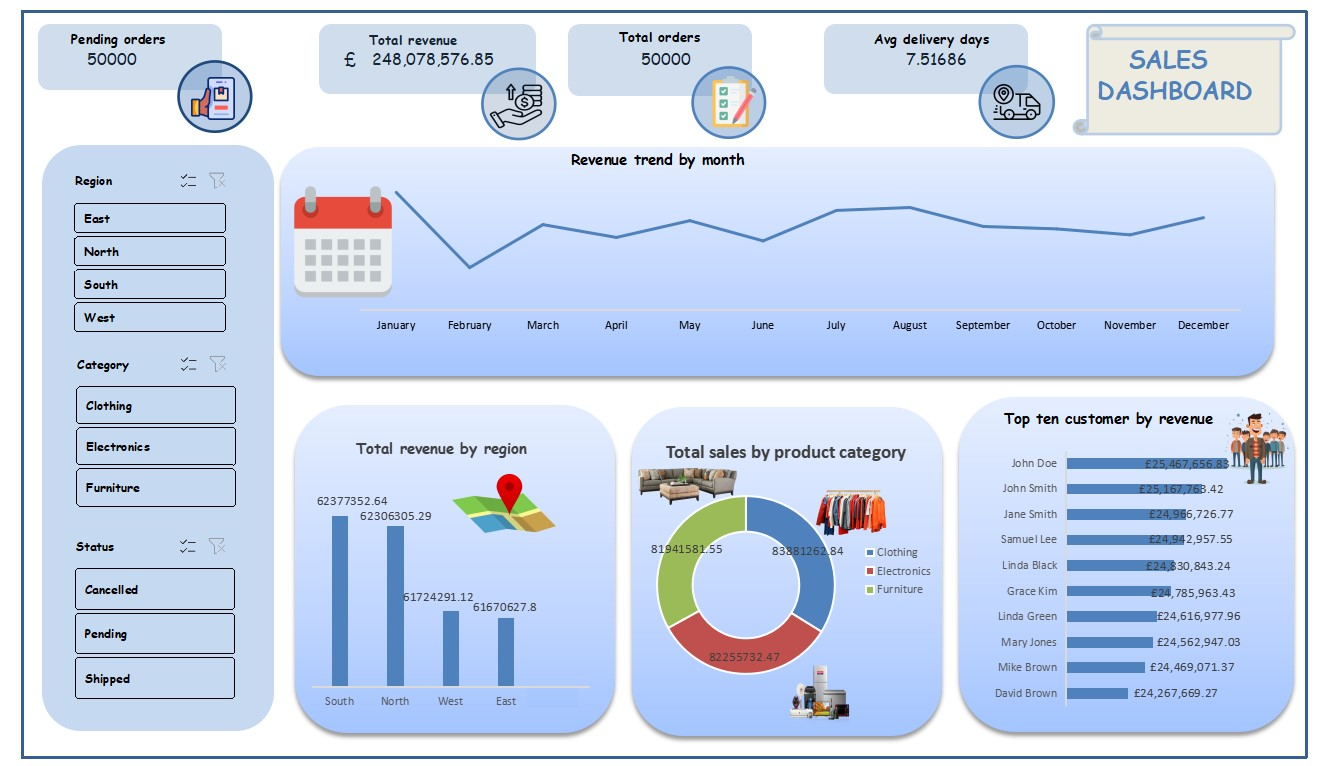

The dashboard page shown, as its layout file describes it:
{"tool":"powerbi","page":{"name":"Page 1","canvas":[1280,720],"ordinal":0},"visuals":[{"type":"shape","box":[0,0,132.3,720],"z":0},{"type":"shape","box":[132.3,0,279.7,138],"z":1000},{"type":"shape","box":[412,0,287.2,138],"z":2000},{"type":"shape","box":[699.2,0,289.1,138],"z":3000},{"type":"shape","box":[988.4,0,272.1,138],"z":4000},{"type":"shape","box":[132.3,153.1,279.7,549.9],"z":5000},{"type":"shape","box":[412,153.1,279.7,275.9],"z":6000},{"type":"shape","box":[412,429,279.7,274],"z":7000},{"type":"shape","box":[708.7,153.1,279.7,221.1],"z":8000},{"type":"shape","box":[980.8,153.1,279.7,221.1],"z":9000},{"type":"shape","box":[708.7,374.2,551.8,328.8],"z":10000},{"type":"textbox","box":[147,47.9,249.2,71.9],"z":11000},{"type":"textbox","box":[159.8,84.7,202.9,52.7],"z":12000},{"type":"shape","box":[247.6,14.4,41.5,33.6],"z":13000},{"type":"card","title":"Total Employees","fields":{"Values":["new measure.Total Emp"]},"box":[400.3,13.9,290.8,105.6],"z":14000},{"type":"card","title":"Male","fields":{"Values":["new measure.Male"]},"box":[848.5,12,131.5,69.7],"z":15000},{"type":"card","title":"Male","fields":{"Values":["new measure.%male"]},"box":[856.4,67.7,123.5,69.7],"z":16000},{"type":"card","title":"Male","fields":{"Values":["new measure.%Femalee"]},"box":[1137.3,67.7,123.5,69.7],"z":17000},{"type":"card","title":"Not due for promotion","fields":{"Values":["new measure.not_due"]},"box":[185.5,460.8,177.5,155.6],"z":18000},{"type":"image","box":[742.9,13.9,101.6,101.6],"z":19000},{"type":"image","box":[1027.7,17.9,97.6,97.6],"z":20000},{"type":"card","title":"Due for promotion","fields":{"Values":["new measure.due for promotion"]},"box":[193.5,179.5,189.5,129.7],"z":21000},{"type":"card","title":"Male","fields":{"Values":["HR Analytics Data.%due for promotion"]},"box":[227.4,275.3,123.7,69.8],"z":22000},{"type":"card","title":"Male","fields":{"Values":["HR Analytics Data.%not_due"]},"box":[181.5,566.5,177.5,119.7],"z":23000},{"type":"card","title":"Female","fields":{"Values":["new measure.female"]},"box":[1129.3,15.9,131.5,69.7],"z":24000},{"type":"shape","box":[145.6,389,259.3,53.9],"z":25000},{"type":"barChart","title":"Service year","fields":{"Category":["HR Analytics Data.service years"],"Y":["new measure.Total Emp"]},"box":[433,171,238.1,236.5],"z":26000},{"type":"columnChart","fields":{"Category":["HR Analytics Data.Job_level"],"Y":["new measure.Total Emp"]},"box":[423.4,444.2,268.4,244.4],"z":27000},{"type":"card","title":"On service","fields":{"Values":["HR Analytics Data.on service"]},"box":[720.5,171,258.8,73.5],"z":28000},{"type":"card","title":"Male","fields":{"Values":["HR Analytics Data.%on_service"]},"box":[786.1,255.6,124.6,68.7],"z":29000},{"type":"card","title":"Retrenched","fields":{"Values":["HR Analytics Data.will be retrenched"]},"box":[990.6,171,258.8,73.5],"z":30000},{"type":"card","title":"Male","fields":{"Values":["HR Analytics Data.%will_be_retrenched"]},"box":[1057.7,257.2,124.6,68.7],"z":31000},{"type":"donutChart","fields":{"Category":["HR Analytics Data.Distance status1"],"Y":["new measure.Total Emp"]},"box":[720.5,389.8,517.6,298.8],"z":32000},{"type":"shape","box":[41.5,153.4,49.5,39.9],"z":33000},{"type":"textbox","box":[25.6,116.6,121.4,36.7],"z":34000},{"type":"image","box":[159.8,308.4,95.9,91.1],"z":34001},{"type":"image","box":[142.2,594.3,84.7,92.7],"z":34002},{"type":"image","box":[423.4,361.1,60.7,68.7],"z":34003},{"type":"image","box":[723.7,273.2,81.5,86.3],"z":34004},{"type":"image","box":[996.9,263.6,140.6,143.8],"z":34005},{"type":"image","box":[1027.3,391.4,110.2,107],"z":34006}]}

Visuals, with their boxes on the page's 1280x720 design canvas (x1, y1, x2, y2). These are canvas units, not pixel positions in the 1318x766 screenshot, which may show the page scaled, cropped or inside an application window:
shape: bbox(0, 0, 132, 720)
shape: bbox(132, 0, 412, 138)
shape: bbox(412, 0, 699, 138)
shape: bbox(699, 0, 988, 138)
shape: bbox(988, 0, 1260, 138)
shape: bbox(132, 153, 412, 703)
shape: bbox(412, 153, 692, 429)
shape: bbox(412, 429, 692, 703)
shape: bbox(709, 153, 988, 374)
shape: bbox(981, 153, 1260, 374)
shape: bbox(709, 374, 1260, 703)
textbox: bbox(147, 48, 396, 120)
textbox: bbox(160, 85, 363, 137)
shape: bbox(248, 14, 289, 48)
"Total Employees" card: bbox(400, 14, 691, 120)
"Male" card: bbox(848, 12, 980, 82)
"Male" card: bbox(856, 68, 980, 137)
"Male" card: bbox(1137, 68, 1261, 137)
"Not due for promotion" card: bbox(186, 461, 363, 616)
image: bbox(743, 14, 844, 116)
image: bbox(1028, 18, 1125, 116)
"Due for promotion" card: bbox(194, 180, 383, 309)
"Male" card: bbox(227, 275, 351, 345)
"Male" card: bbox(182, 566, 359, 686)
"Female" card: bbox(1129, 16, 1261, 86)
shape: bbox(146, 389, 405, 443)
"Service year" barChart: bbox(433, 171, 671, 408)
columnChart - HR Analytics Data.Job_level x new measure.Total Emp: bbox(423, 444, 692, 689)
"On service" card: bbox(720, 171, 979, 244)
"Male" card: bbox(786, 256, 911, 324)
"Retrenched" card: bbox(991, 171, 1249, 244)
"Male" card: bbox(1058, 257, 1182, 326)
donutChart - HR Analytics Data.Distance status1 x new measure.Total Emp: bbox(720, 390, 1238, 689)
shape: bbox(42, 153, 91, 193)
textbox: bbox(26, 117, 147, 153)
image: bbox(160, 308, 256, 400)
image: bbox(142, 594, 227, 687)
image: bbox(423, 361, 484, 430)
image: bbox(724, 273, 805, 360)
image: bbox(997, 264, 1138, 407)
image: bbox(1027, 391, 1138, 498)
